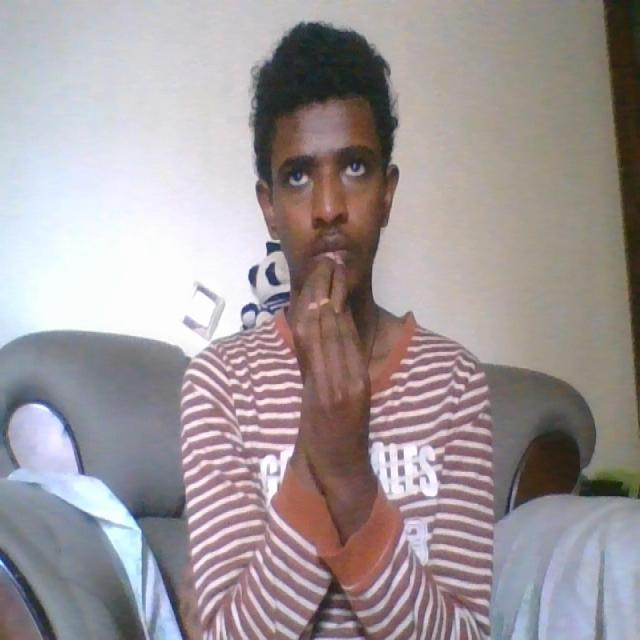migb: (286, 238, 377, 482)
